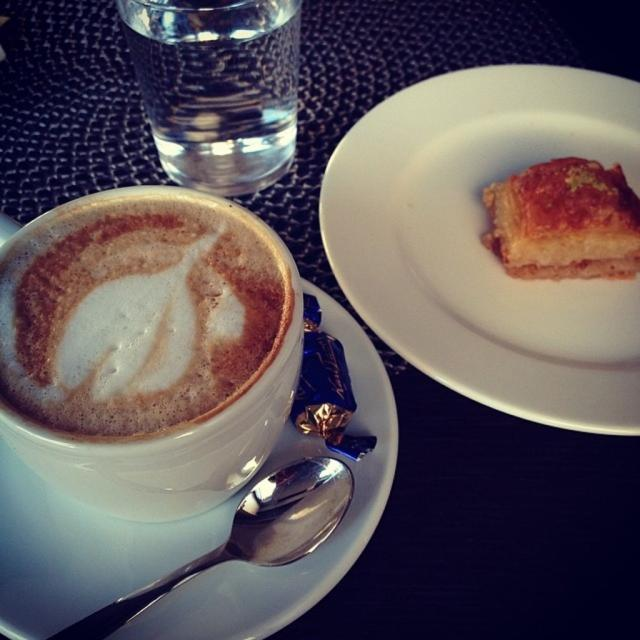Coffee: (0, 196, 292, 439)
Tea: (3, 201, 292, 440)
